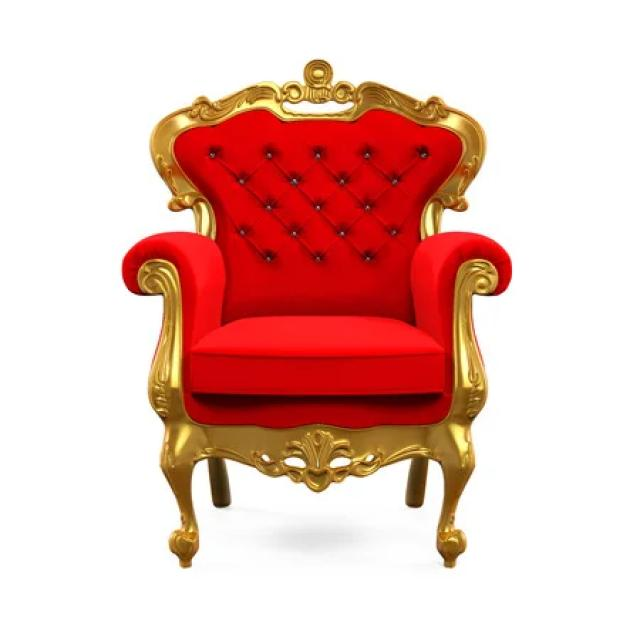obstacle: (105, 33, 545, 613)
